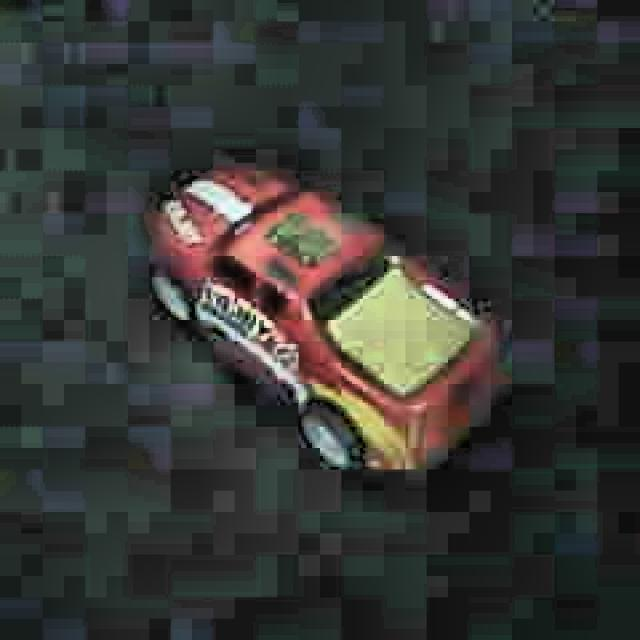car: (144, 151, 521, 492)
